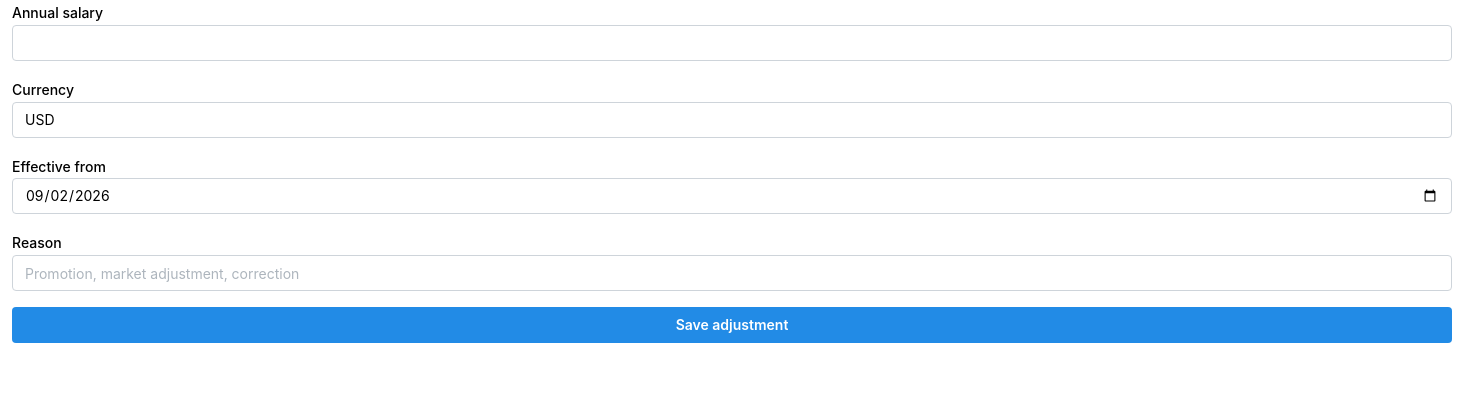
rejects non-positive salary
Type "Promotion" into the field labelled "Reason".
click(732, 273); type("Promotion")  # box [12,255,1452,291]
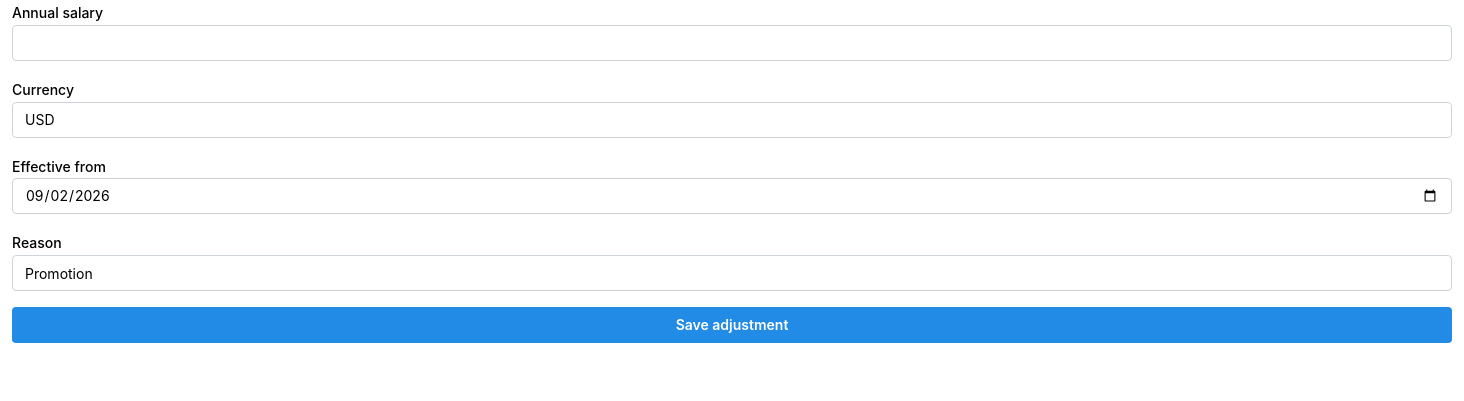
Type "0" into the field labelled "Annual salary".
click(732, 43); type("0")  # box [12,25,1452,61]
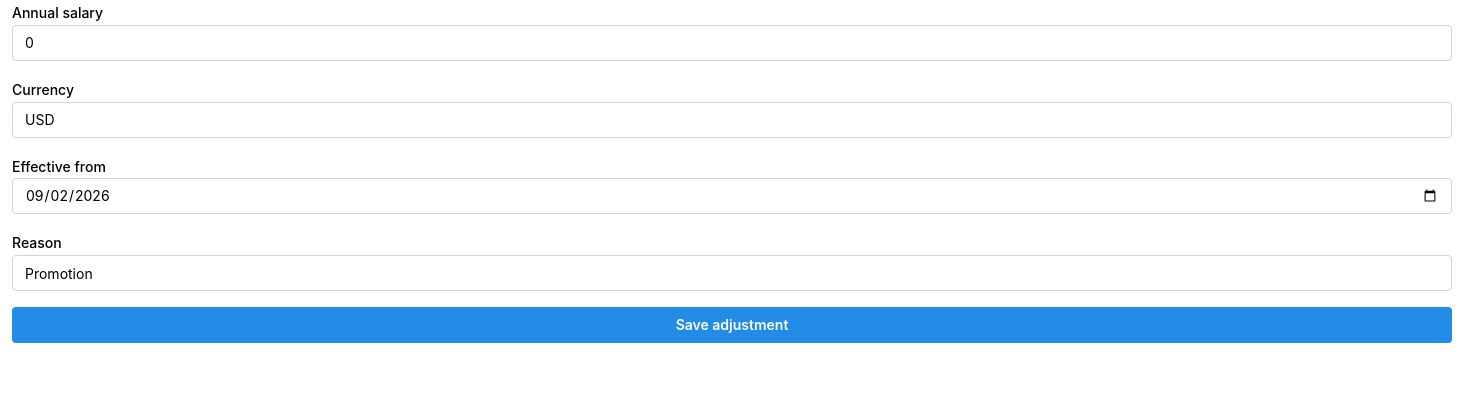
Click the button "Save adjustment".
click(732, 325)  # box [12,307,1452,343]
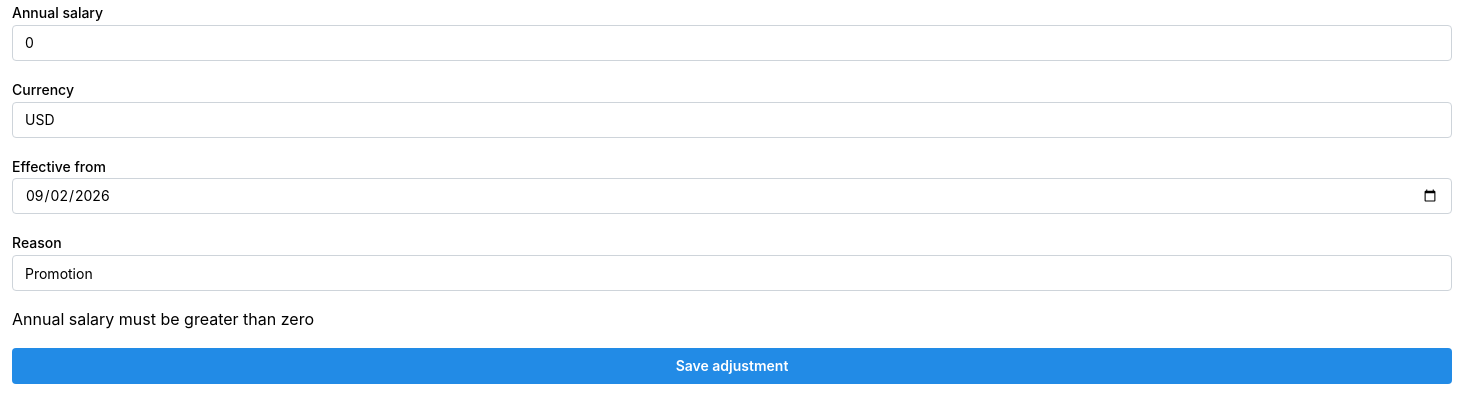
Expected: the message shows "greater than zero", [12,309,314,329]
